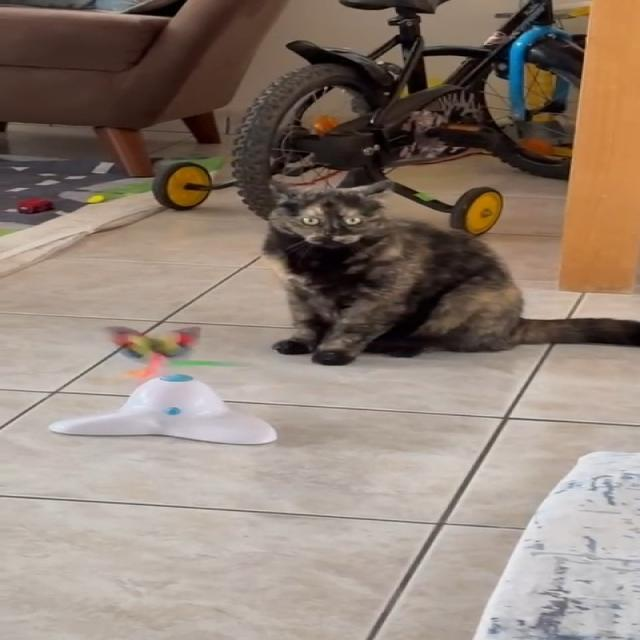authorized: (260, 178, 639, 365)
